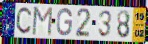2: (75, 7, 92, 38)
3: (98, 10, 113, 38)
8: (116, 10, 131, 40)
C: (15, 6, 33, 35)
G: (55, 7, 73, 37)
M: (31, 6, 54, 38)
